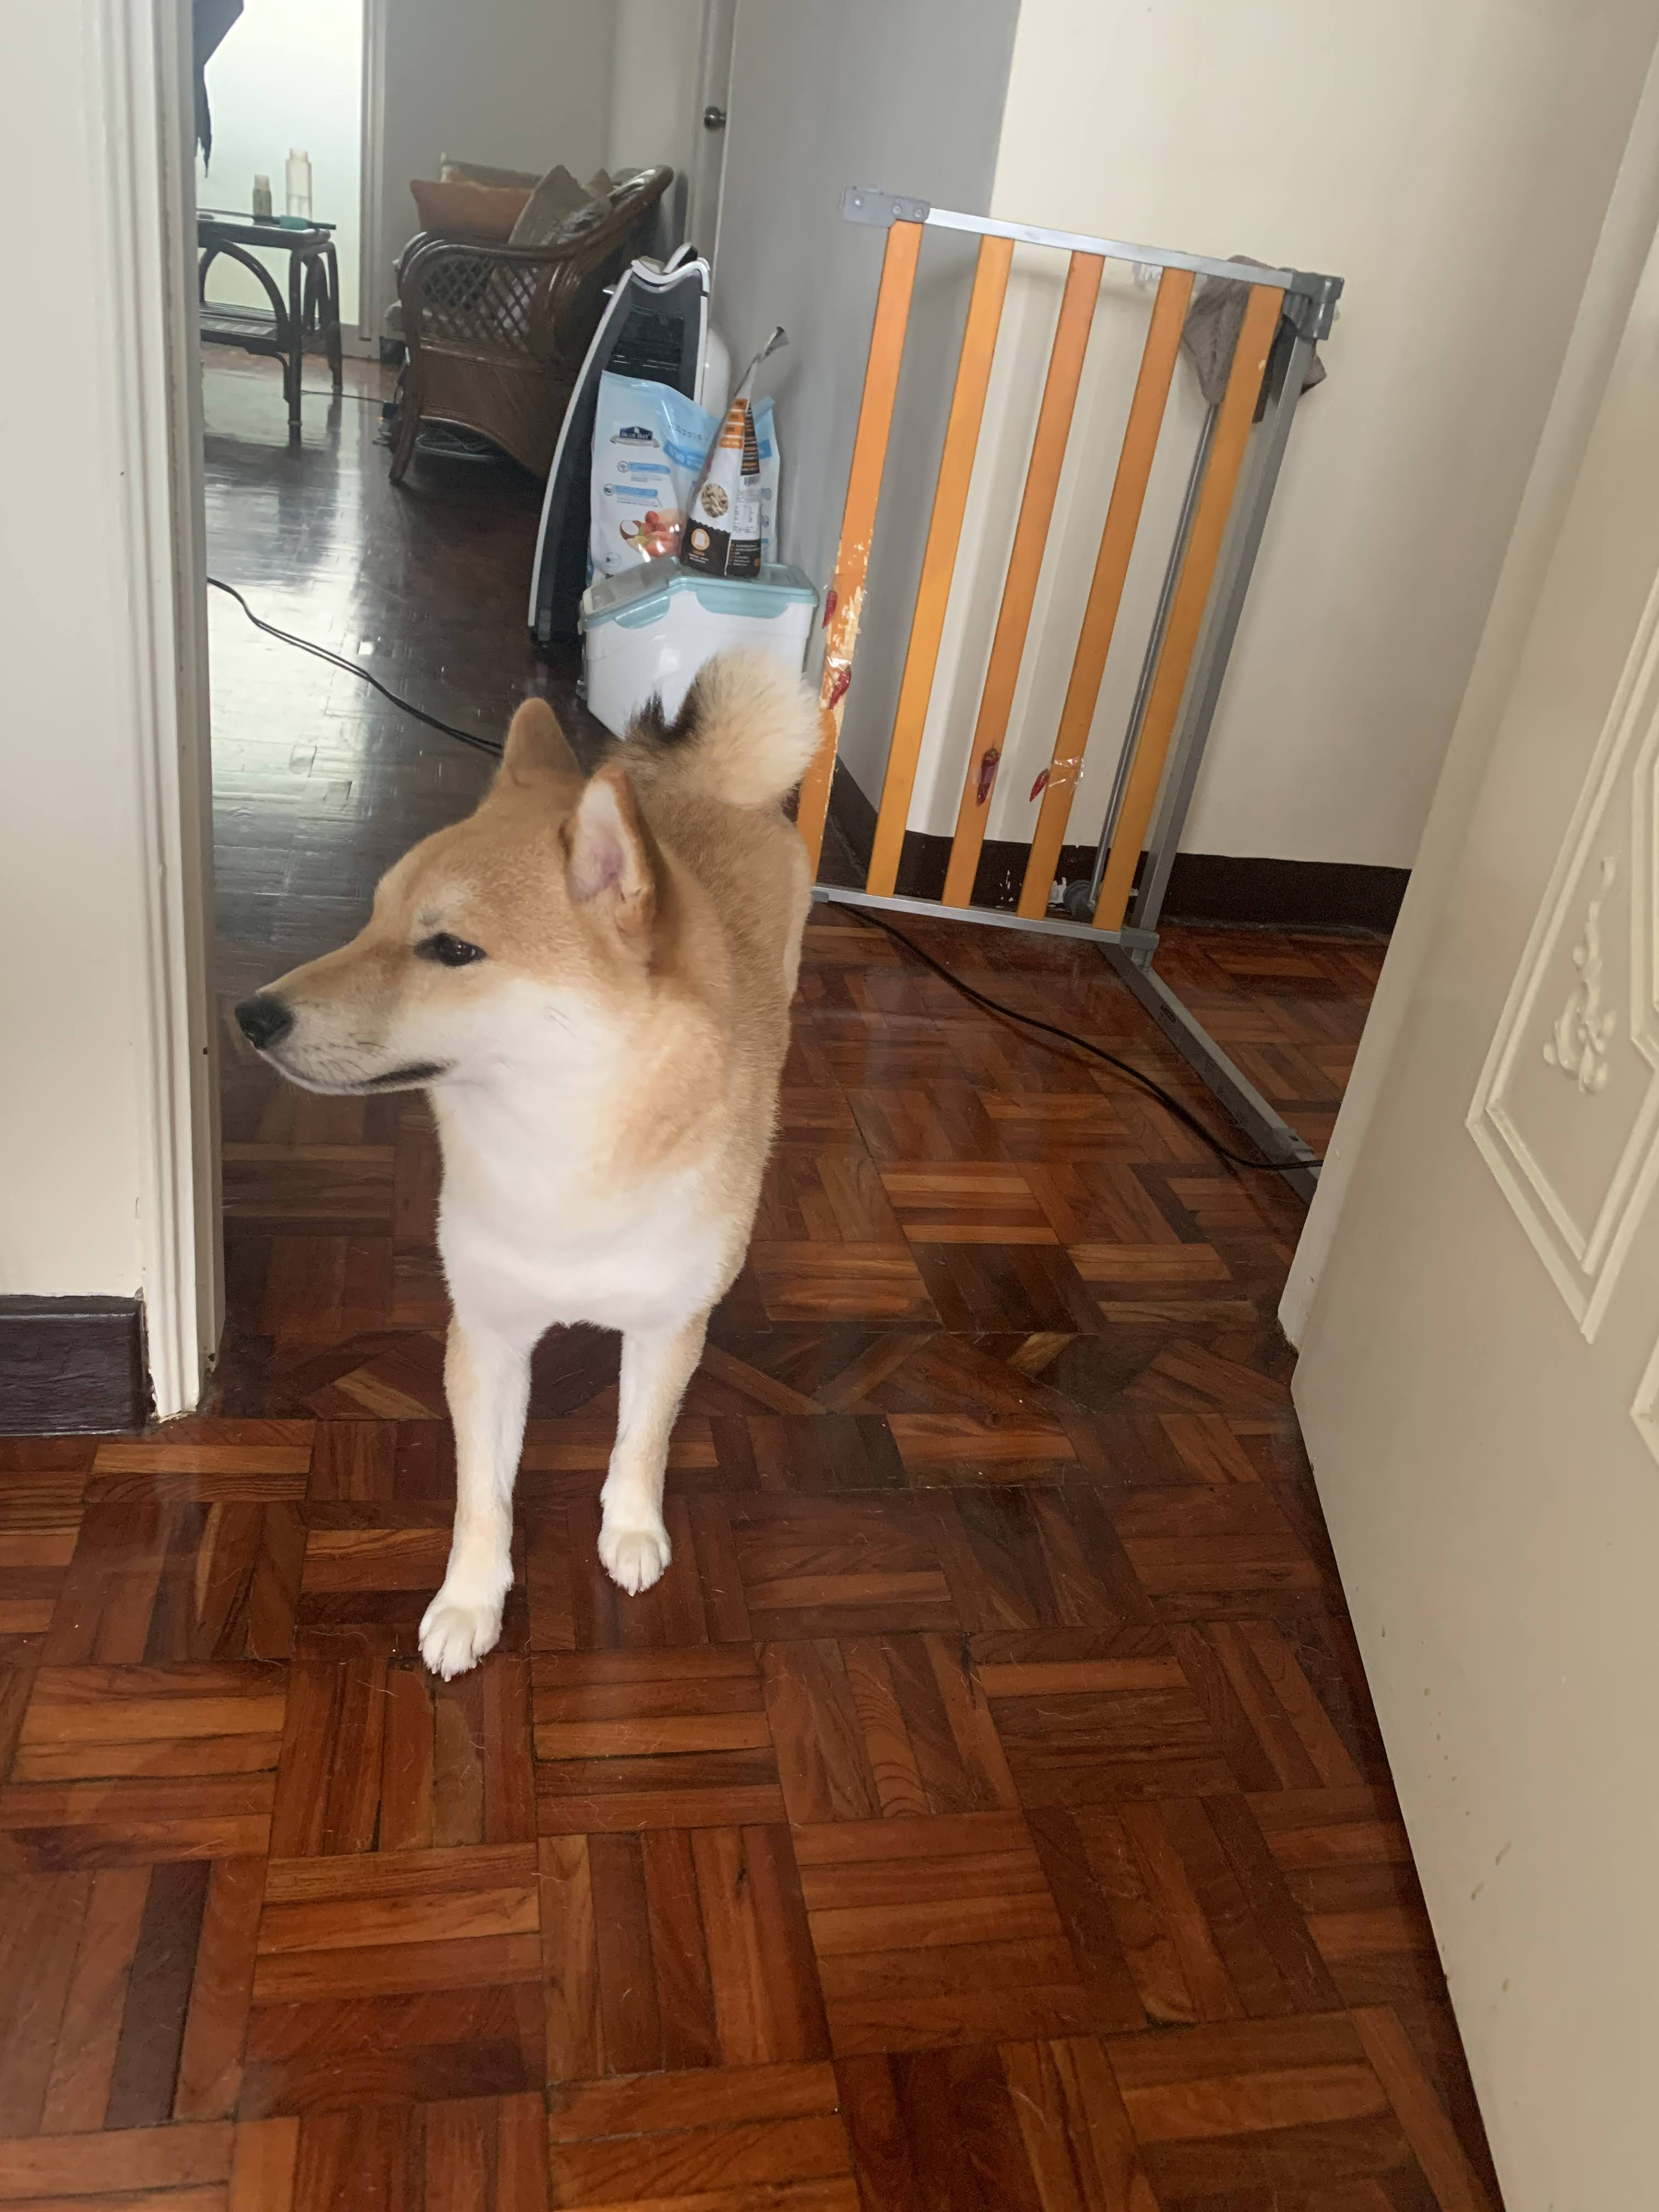Stand up: (265, 611, 880, 1803)
